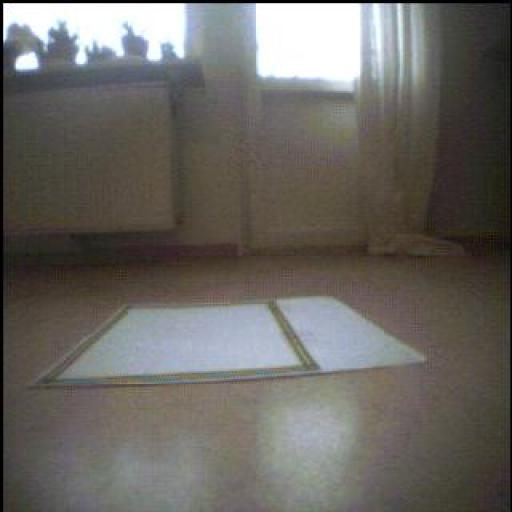Pad: (38, 299, 425, 388)
